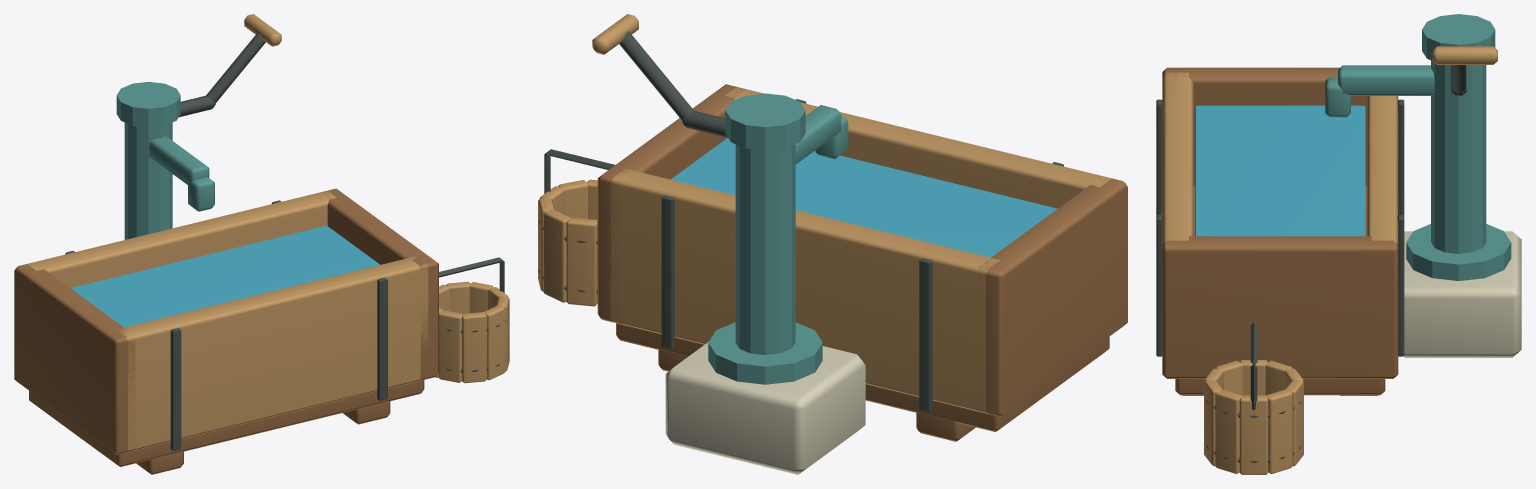
File: farm_art_wash_tub.glb
3 renders of one model, left to right at view 1: azimuth 30°, elevation 25°; view 2: azimuth 150°, elevation 25°; view 3: azimuth 270°, elevation 25°, orthographic. The views are drawn at different scales.
Visible parts, largest first — view 1: Trough long wall, Trough short wall, Water in trough, Trough long wall.001, Trough short wall.001, Trough bottom, Pump column, Pump cap, Bucket stave.017, Bucket stave.016, Pump spout, Black iron band (+9 smaller); view 2: Trough long wall.001, Trough short wall, Pump plinth, Water in trough, Pump column, Trough long wall, Trough short wall.001, Trough bottom, Pump foot, Pump cap, Bucket stave.013, Black iron band.001 (+10 smaller); view 3: Trough short wall.001, Water in trough, Pump plinth, Pump column, Trough short wall, Trough long wall, Trough long wall.001, Pump foot, Pump spout, Pump cap, Bucket stave.010, Trough bottom (+14 smaller).
Boxes of the visible parts, <box> form: Trough long wall: <box>119,256,428,450</box>; Trough short wall: <box>14,264,135,454</box>; Water in trough: <box>70,225,380,327</box>; Trough long wall.001: <box>27,190,336,287</box>; Trough short wall.001: <box>321,188,438,379</box>; Trough bottom: <box>29,380,424,466</box>; Pump column: <box>124,122,172,239</box>; Pump cap: <box>116,81,180,127</box>; Bucket stave.017: <box>462,312,486,383</box>; Bucket stave.016: <box>438,310,462,382</box>; Pump spout: <box>149,136,209,185</box>; Black iron band: <box>170,328,181,451</box>; Trough long wall.001: <box>611,169,1000,413</box>; Trough short wall: <box>977,178,1127,416</box>; Pump plinth: <box>665,342,865,474</box>; Water in trough: <box>671,138,1057,257</box>; Pump column: <box>735,144,795,354</box>; Trough long wall: <box>725,87,1111,208</box>; Trough short wall.001: <box>597,84,746,324</box>; Trough bottom: <box>616,323,1109,431</box>; Pump foot: <box>708,322,822,384</box>; Pump cap: <box>725,93,805,150</box>; Bucket stave.013: <box>566,217,597,306</box>; Black iron band.001: <box>919,258,932,412</box>; Trough short wall.001: <box>1162,236,1398,378</box>; Water in trough: <box>1195,105,1365,236</box>; Pump plinth: <box>1403,231,1521,357</box>; Pump column: <box>1431,60,1486,253</box>; Trough short wall: <box>1162,67,1366,185</box>; Trough long wall: <box>1162,72,1193,244</box>; Trough long wall.001: <box>1367,96,1398,244</box>; Pump foot: <box>1406,224,1511,280</box>; Pump spout: <box>1338,65,1434,95</box>; Pump cap: <box>1422,14,1495,65</box>; Bucket stave.010: <box>1239,395,1268,474</box>; Trough bottom: <box>1175,186,1385,395</box>.
Size of the model in its own units: 2.16 by 1.46 by 1.39.
